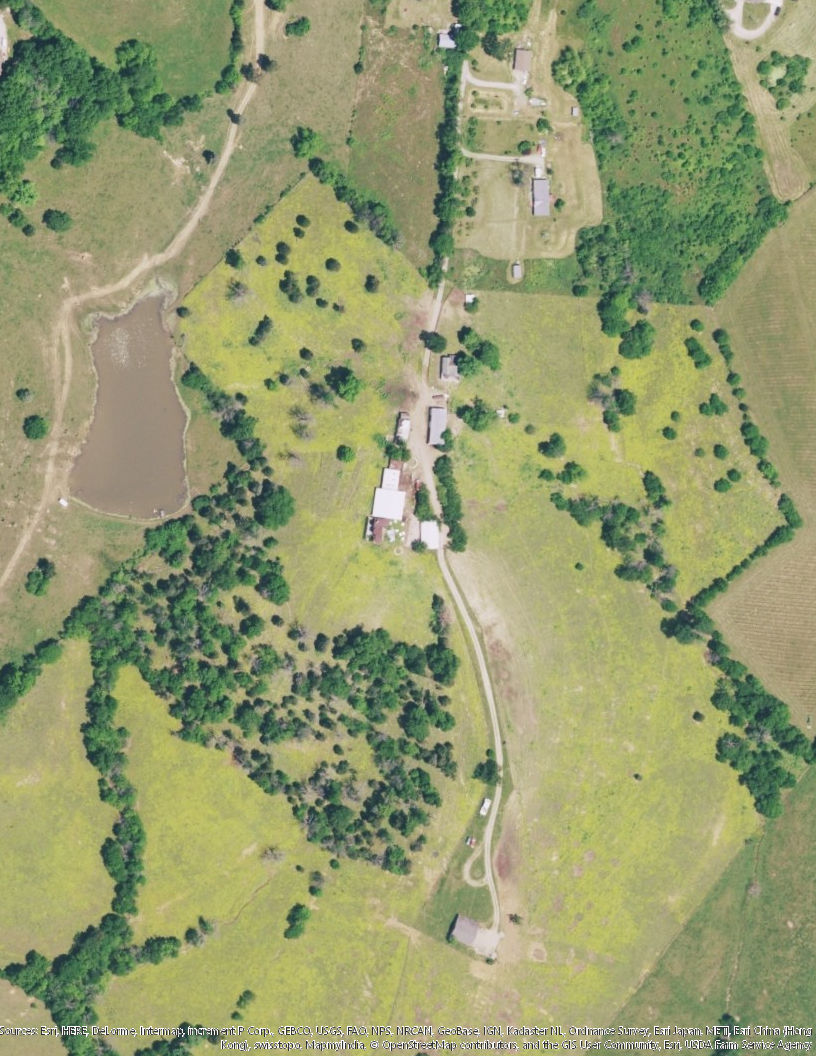cafo: (363, 407, 413, 547)
